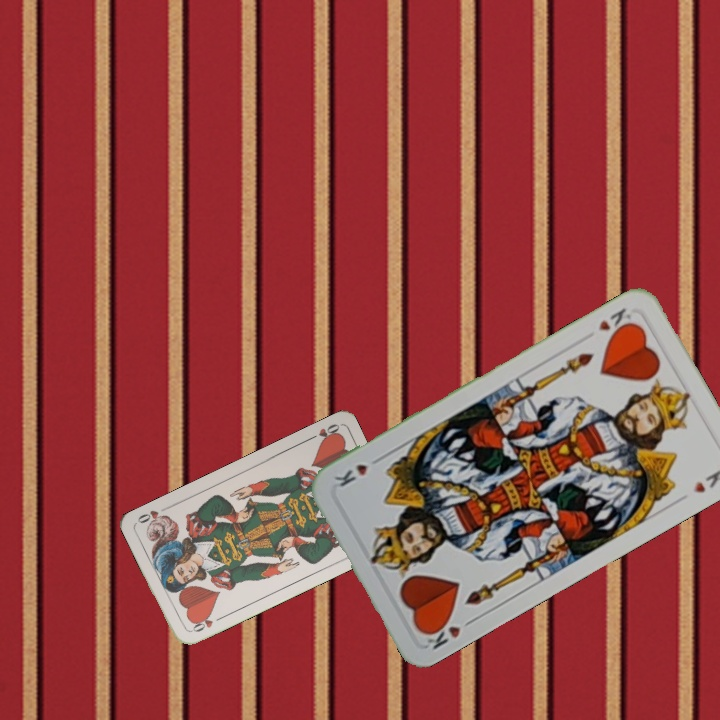HK: (418, 614, 478, 652), (594, 303, 639, 339)
HO: (186, 610, 225, 635), (303, 420, 342, 445)
